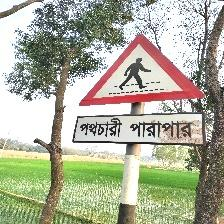Pedestrian-crossing: (73, 31, 207, 146)
